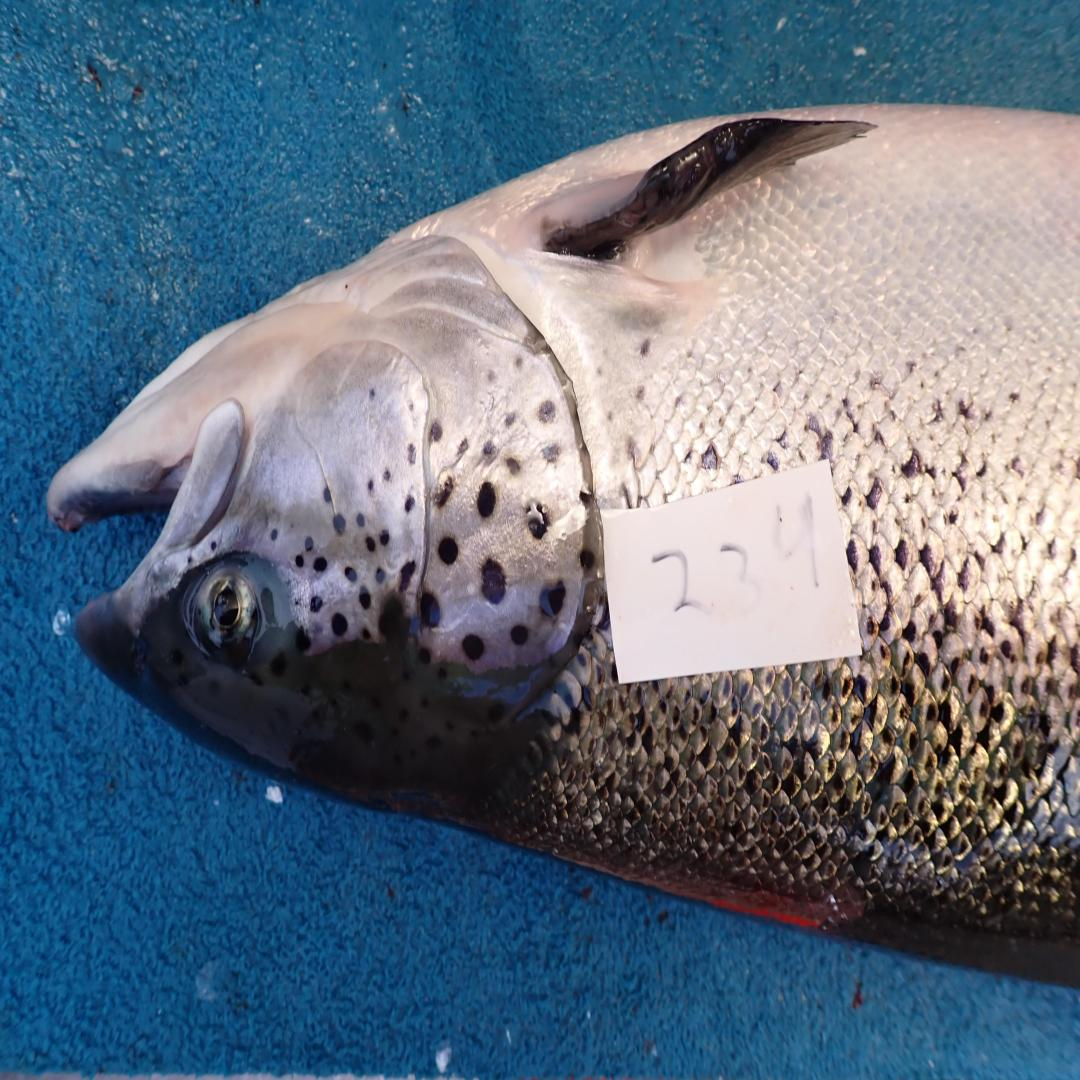spot: (378, 596, 411, 644), (481, 560, 506, 605), (540, 582, 565, 619), (527, 501, 548, 540), (420, 591, 441, 627), (477, 481, 496, 518), (462, 633, 485, 661), (435, 475, 454, 506), (439, 537, 458, 565), (399, 560, 416, 591), (538, 399, 555, 422), (331, 613, 348, 636), (510, 624, 529, 644), (296, 627, 310, 652), (542, 444, 559, 464), (580, 548, 595, 568), (359, 588, 371, 610), (456, 439, 468, 461), (430, 422, 443, 442), (506, 458, 521, 475), (504, 411, 519, 428), (333, 515, 346, 534), (378, 526, 390, 546), (310, 596, 323, 613), (403, 495, 416, 512), (418, 647, 431, 664), (407, 443, 416, 464), (314, 557, 327, 571), (365, 534, 375, 551), (359, 627, 371, 641), (323, 487, 333, 503), (375, 568, 385, 584), (483, 442, 494, 456), (580, 491, 591, 505), (346, 568, 356, 582), (304, 537, 314, 551), (356, 512, 365, 526), (295, 554, 304, 568), (487, 368, 496, 382), (383, 468, 391, 481), (270, 529, 278, 540), (367, 478, 373, 491), (369, 387, 375, 399), (408, 403, 414, 410)
